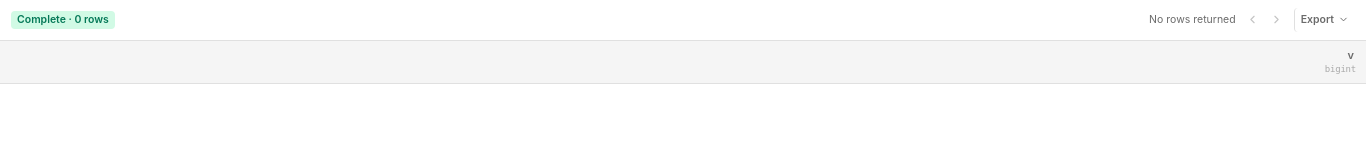
Test: durable full results › keeps whole-result export available for a successful zero-row artifact
Expected: the message with test id "full-result-status" reads "Complete · 0 rows", [11,11,115,29]
Expected: the text "No rows returned" is shown, [1149,12,1236,28]
Click the button with aria-label "Export result" at (1324, 20), box [1294,8,1355,32]
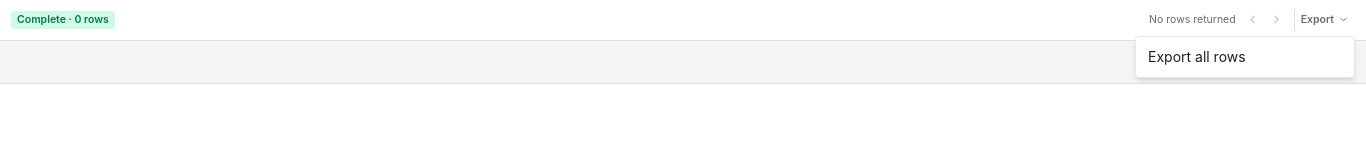
Now the menu item "Export all rows" is shown, box [1148,48,1246,65]
